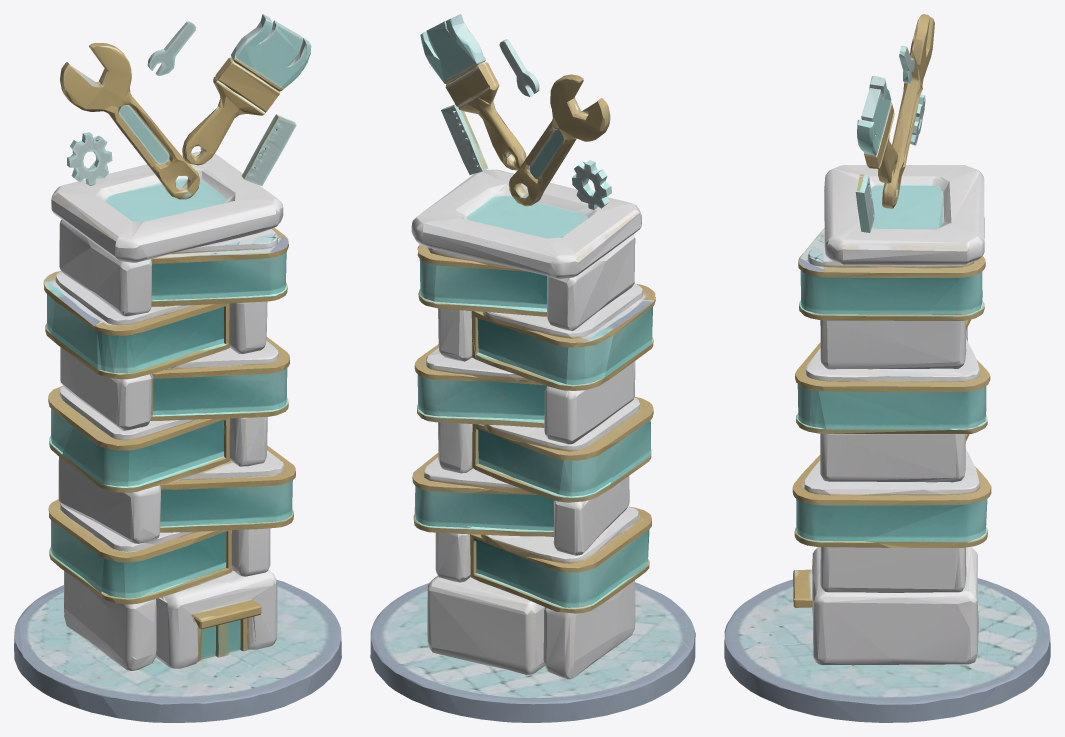
File: tower.glb
3 renders of one model, left to right at view 1: azimuth 30°, elevation 25°; view 2: azimuth 150°, elevation 25°; view 3: azimuth 270°, elevation 25°, orthographic.
Visible parts, largest first — view 1: Mesh_0; view 2: Mesh_0; view 3: Mesh_0.
Part boxes in pixels (left/top/right/bottom): Mesh_0: left=14, top=14, right=341, bottom=722; Mesh_0: left=370, top=14, right=695, bottom=722; Mesh_0: left=724, top=14, right=1050, bottom=722.
Bounding box in the file's own units: 0.9083 × 1.9 × 0.9104.
1 material, 1 textured.
